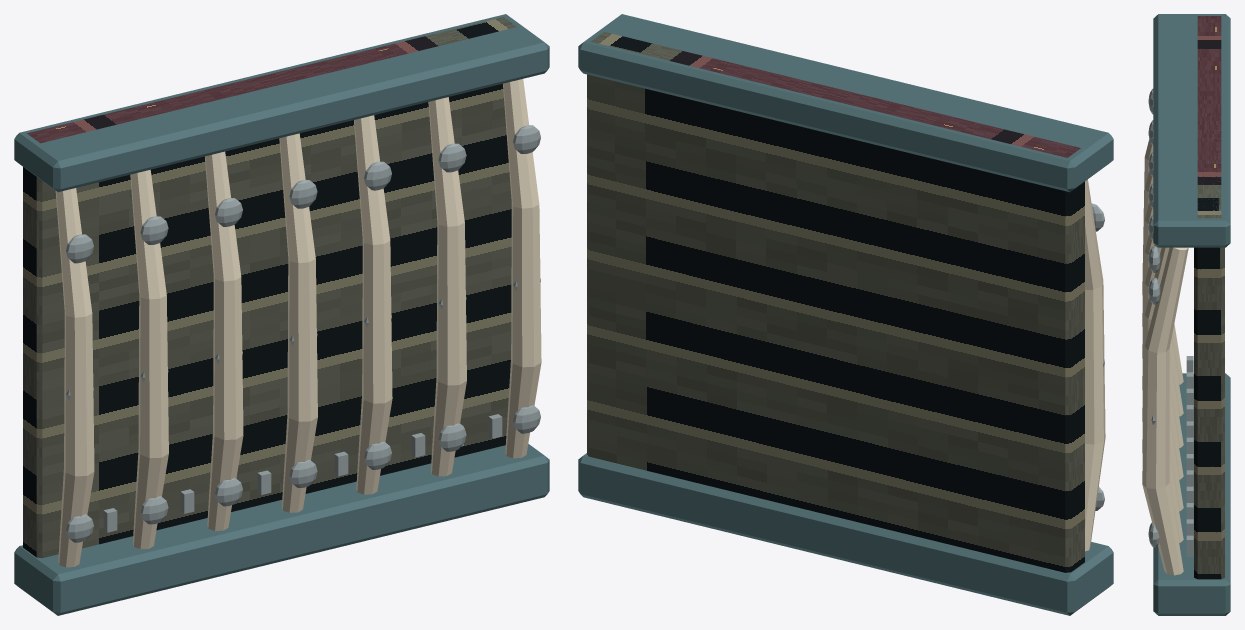
Rendered from ribbed_wall.glb.
3 views of the same model, side by side, from view 1: azimuth 30°, elevation 25°; view 2: azimuth 150°, elevation 25°; view 3: azimuth 270°, elevation 25° (orthographic). The views are drawn at different scales.
Visible parts, largest first — view 1: ribbed_wall_bruised, ribbed_wall_warm, ribbed_wall_petrol, ribbed_wall_worn; view 2: ribbed_wall_bruised, ribbed_wall_petrol, ribbed_wall_warm; view 3: ribbed_wall_petrol, ribbed_wall_bruised, ribbed_wall_warm, ribbed_wall_worn.
Part boxes in pixels (x1,y1,x2,y2): ribbed_wall_bruised: [23, 17, 516, 558]; ribbed_wall_warm: [55, 79, 541, 567]; ribbed_wall_petrol: [14, 14, 549, 615]; ribbed_wall_worn: [66, 125, 540, 542]; ribbed_wall_bruised: [587, 32, 1084, 572]; ribbed_wall_petrol: [578, 14, 1113, 615]; ribbed_wall_warm: [1085, 179, 1105, 551]; ribbed_wall_petrol: [1153, 14, 1230, 615]; ribbed_wall_bruised: [1194, 16, 1224, 579]; ribbed_wall_warm: [1142, 139, 1188, 575]; ribbed_wall_worn: [1148, 88, 1193, 556].
Size of the model in its own units: 4 by 3.5 by 0.7097.
Materials: 4 (1 with a texture image).
